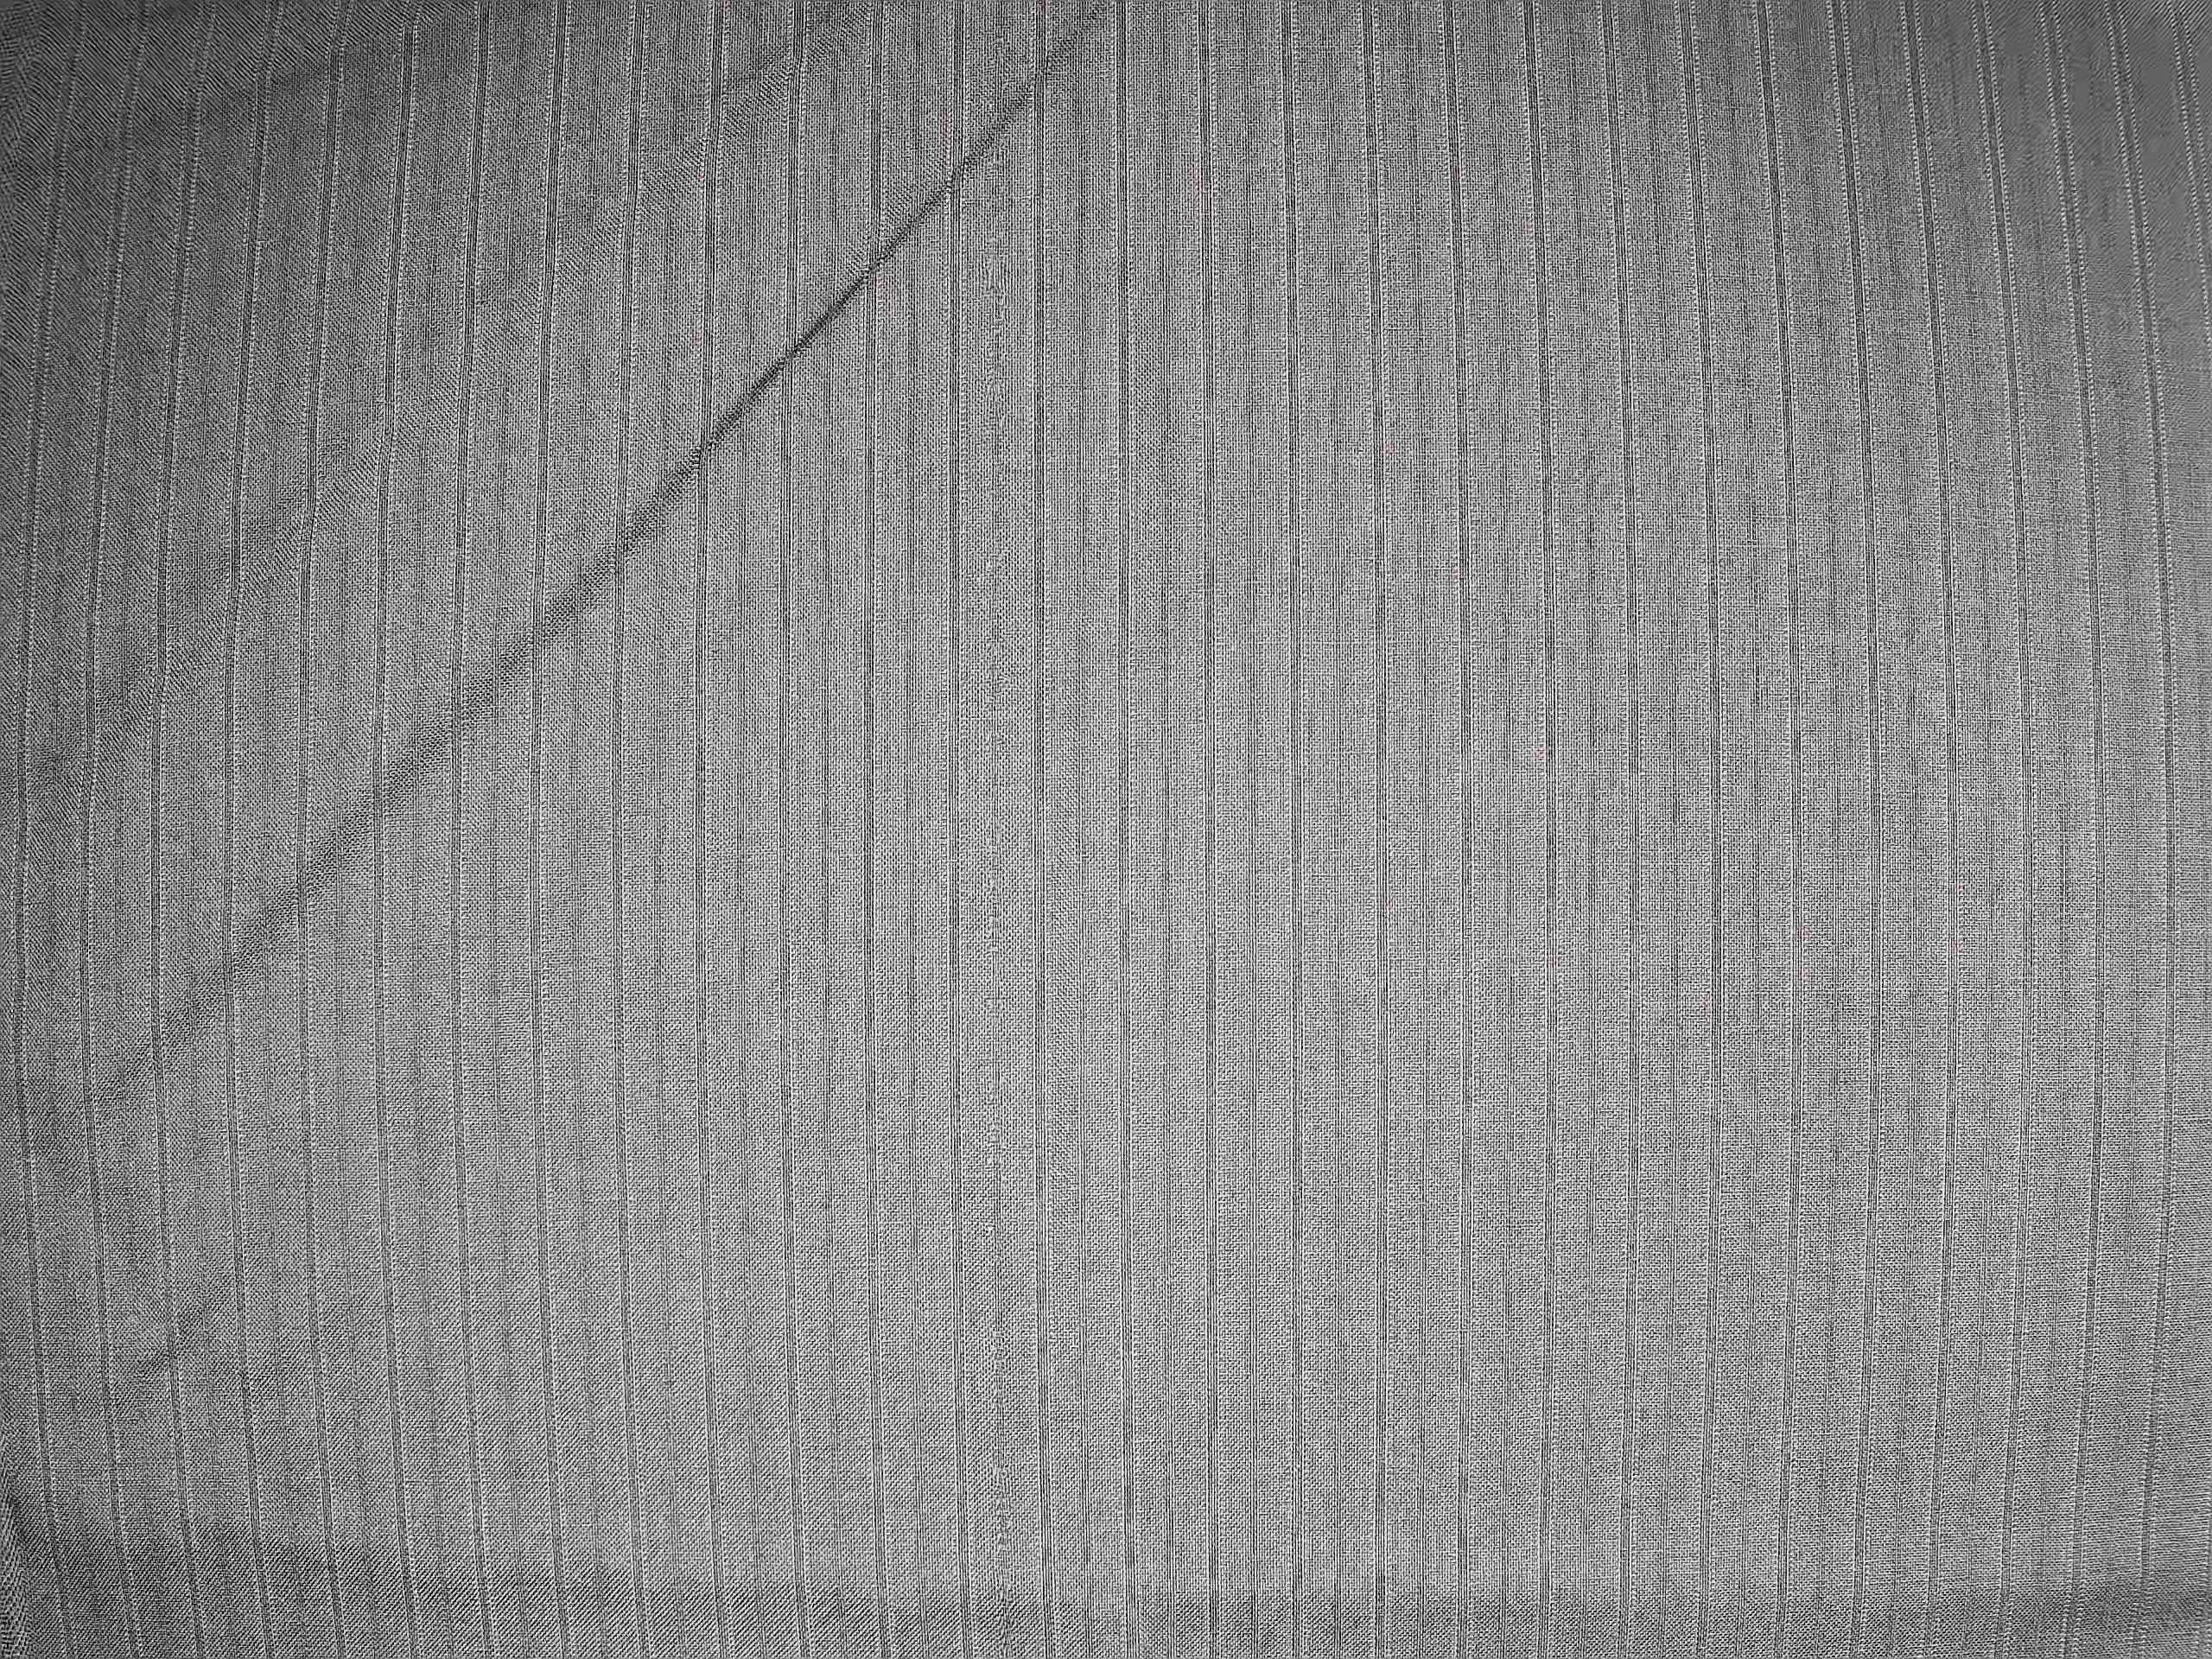jumps: (975, 5, 1033, 1635)
